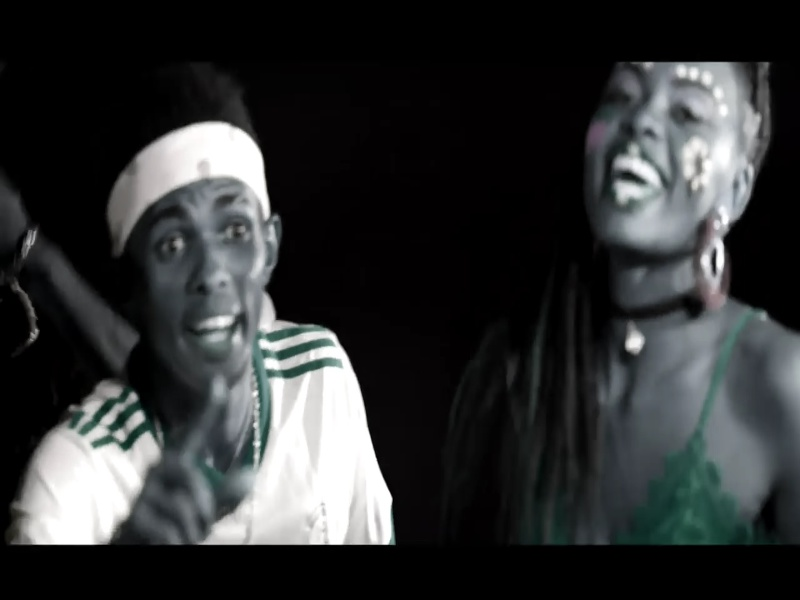TsisyArotava: (103, 116, 295, 424), (589, 49, 730, 265)
